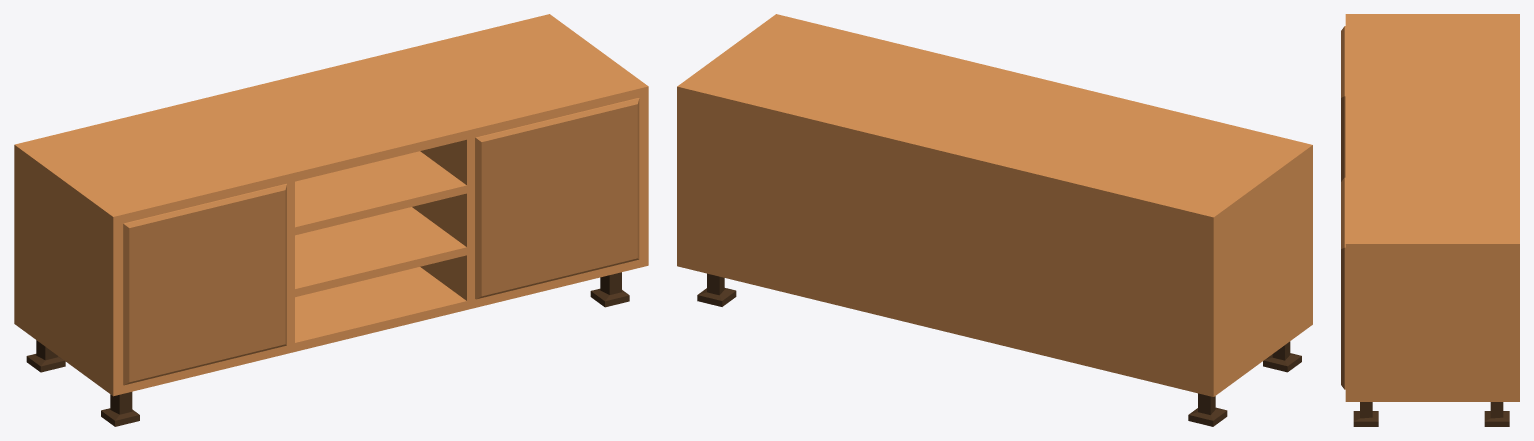
Rendered from MeubleTV1.fbx.
3 views of the same model, side by side, from view 1: azimuth 30°, elevation 25°; view 2: azimuth 150°, elevation 25°; view 3: azimuth 270°, elevation 25° (orthographic). The views are drawn at different scales.
Parts seen in each view (by area): view 1: MeubleTV1; view 2: MeubleTV1; view 3: MeubleTV1.
Part boxes in pixels (x1,y1,x2,y2): MeubleTV1: (14, 14, 648, 426); MeubleTV1: (677, 14, 1312, 426); MeubleTV1: (1341, 14, 1519, 426).
Size of the model in its own units: 500 by 192 by 164.
